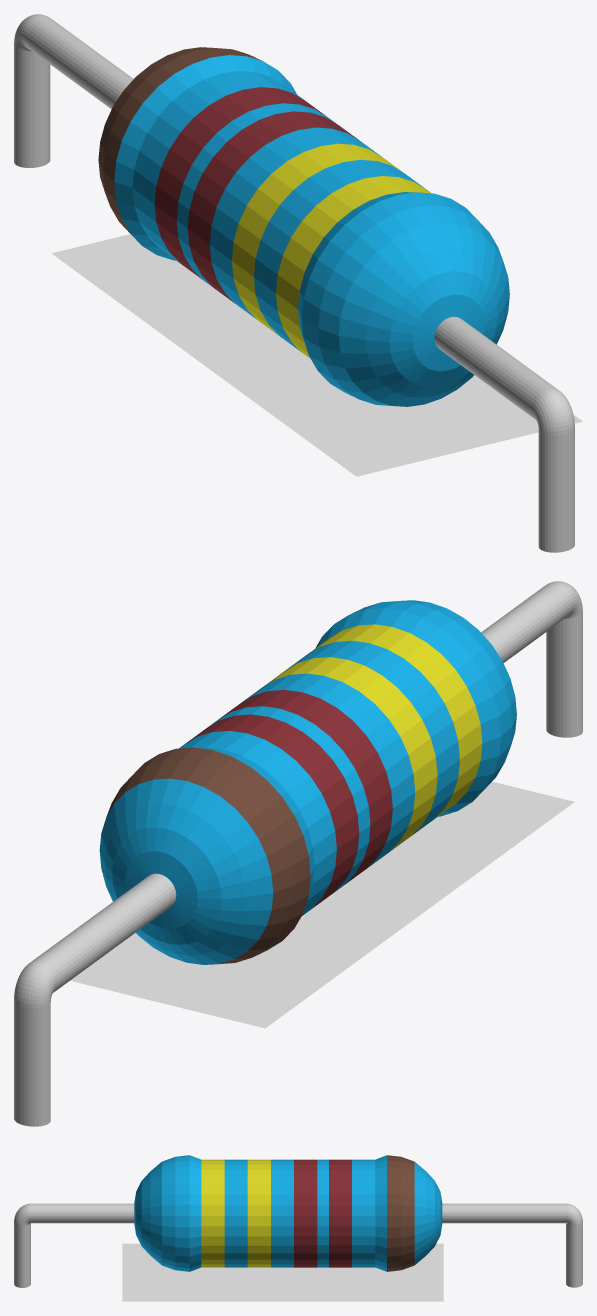
3 views of the same model, one above another, from view 1: azimuth 30°, elevation 25°; view 2: azimuth 150°, elevation 25°; view 3: azimuth 270°, elevation 25° (orthographic). The views are drawn at different scales.
Visible parts, largest first — view 1: R_7, R_7_plane; view 2: R_7, R_7_plane; view 3: R_7, R_7_plane.
Boxes of the visible parts, <box> form: R_7: <box>14,14,574,552</box>; R_7_plane: <box>51,234,582,476</box>; R_7: <box>14,581,582,1126</box>; R_7_plane: <box>70,781,574,1028</box>; R_7: <box>14,1155,582,1287</box>; R_7_plane: <box>122,1243,443,1301</box>.
Bounding box in the file's own units: 0.0161 × 0.0159 × 0.0664.
